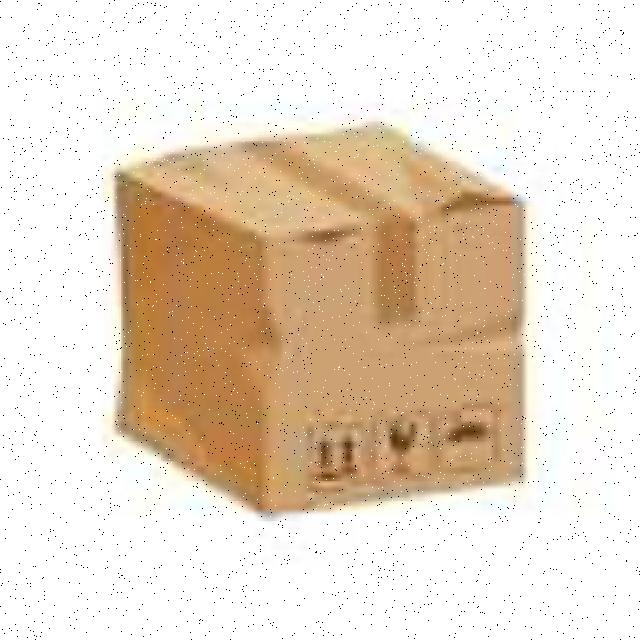defect: (105, 120, 528, 518)
